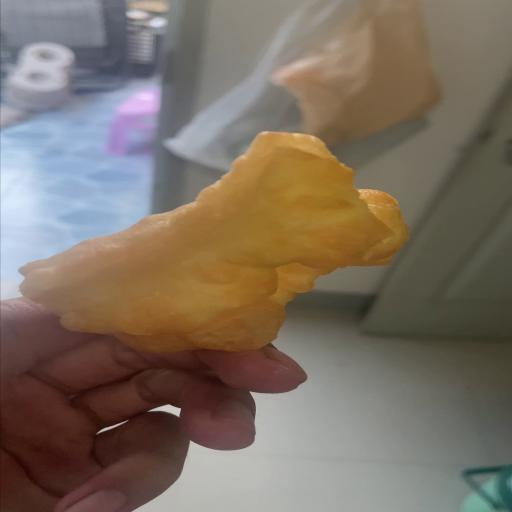street_golden_good: (21, 132, 406, 352)
